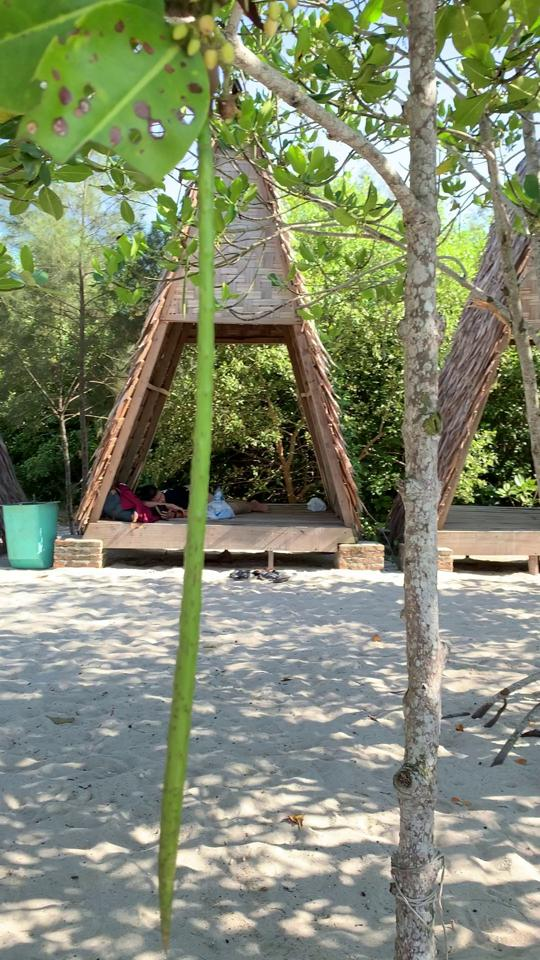mentah: (143, 3, 241, 956)
